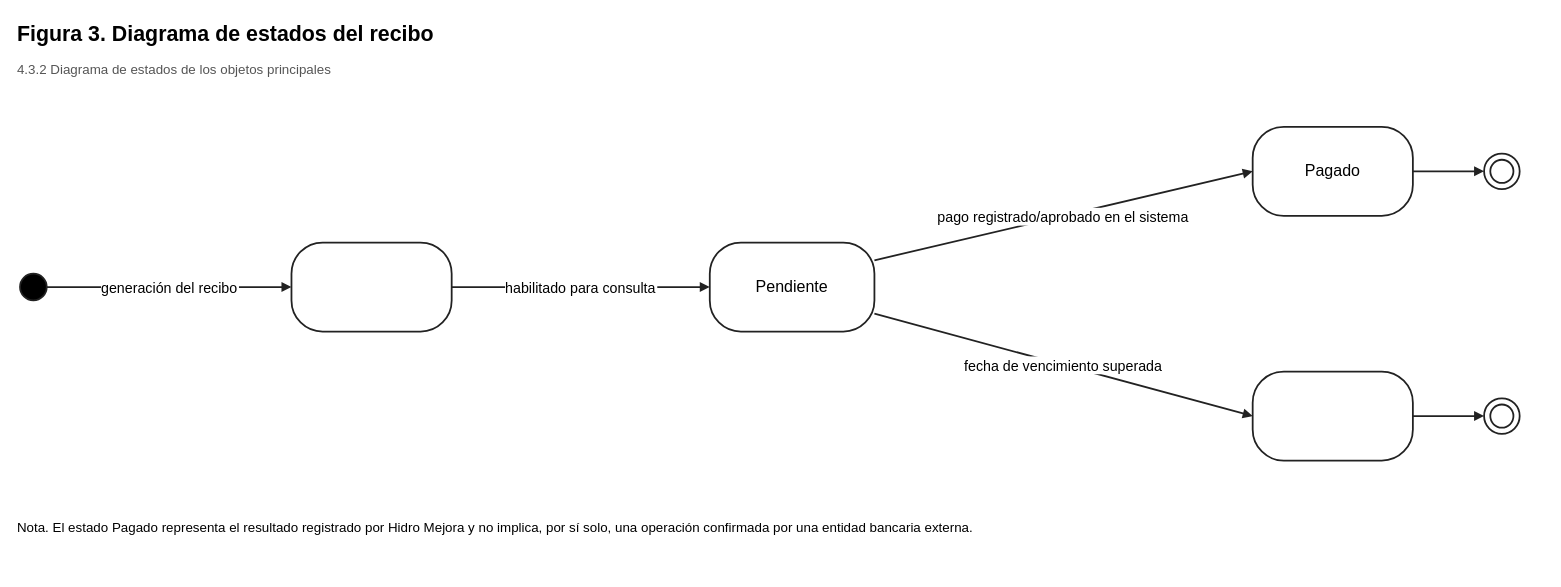
This 1561x587 diagram has some shape labels left out. Here are the shapes that lost their labels. From the top down, the centre of each, then its label:
At point (371, 286): "Emitido".
At point (1332, 415): "Vencido".
